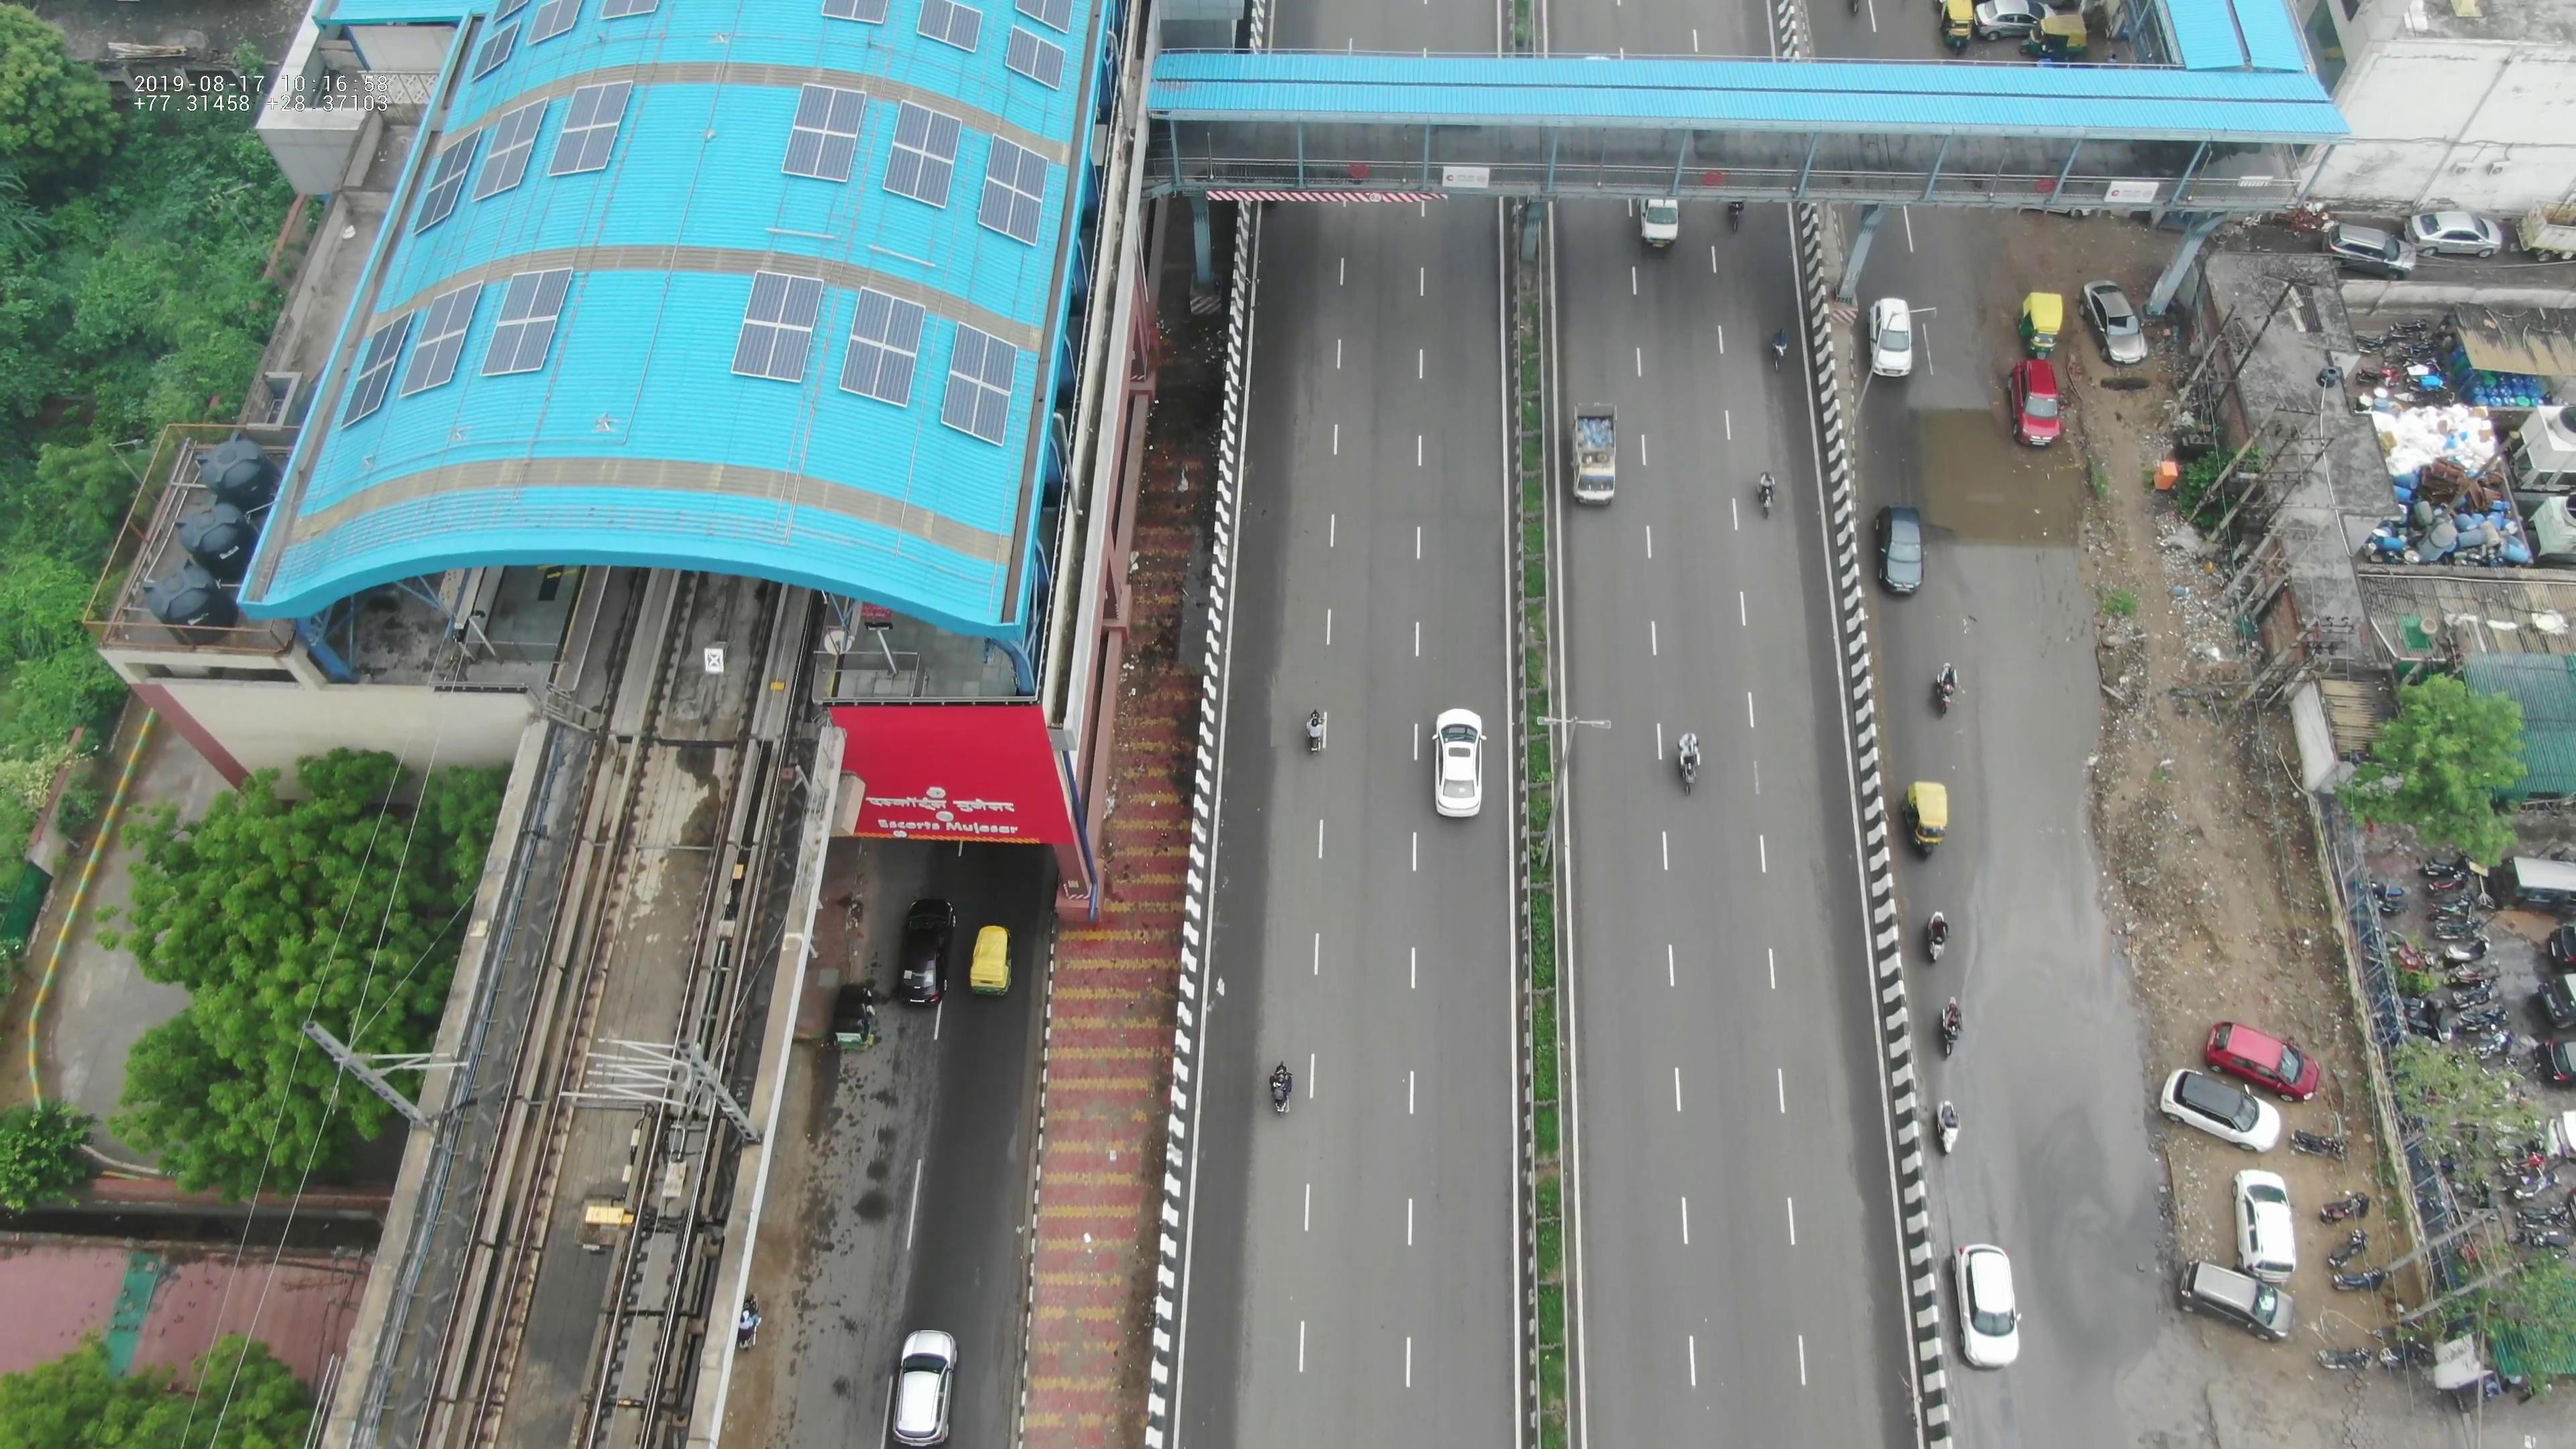Waterlogging: (1955, 630, 2118, 1150), (1902, 391, 2084, 614)
